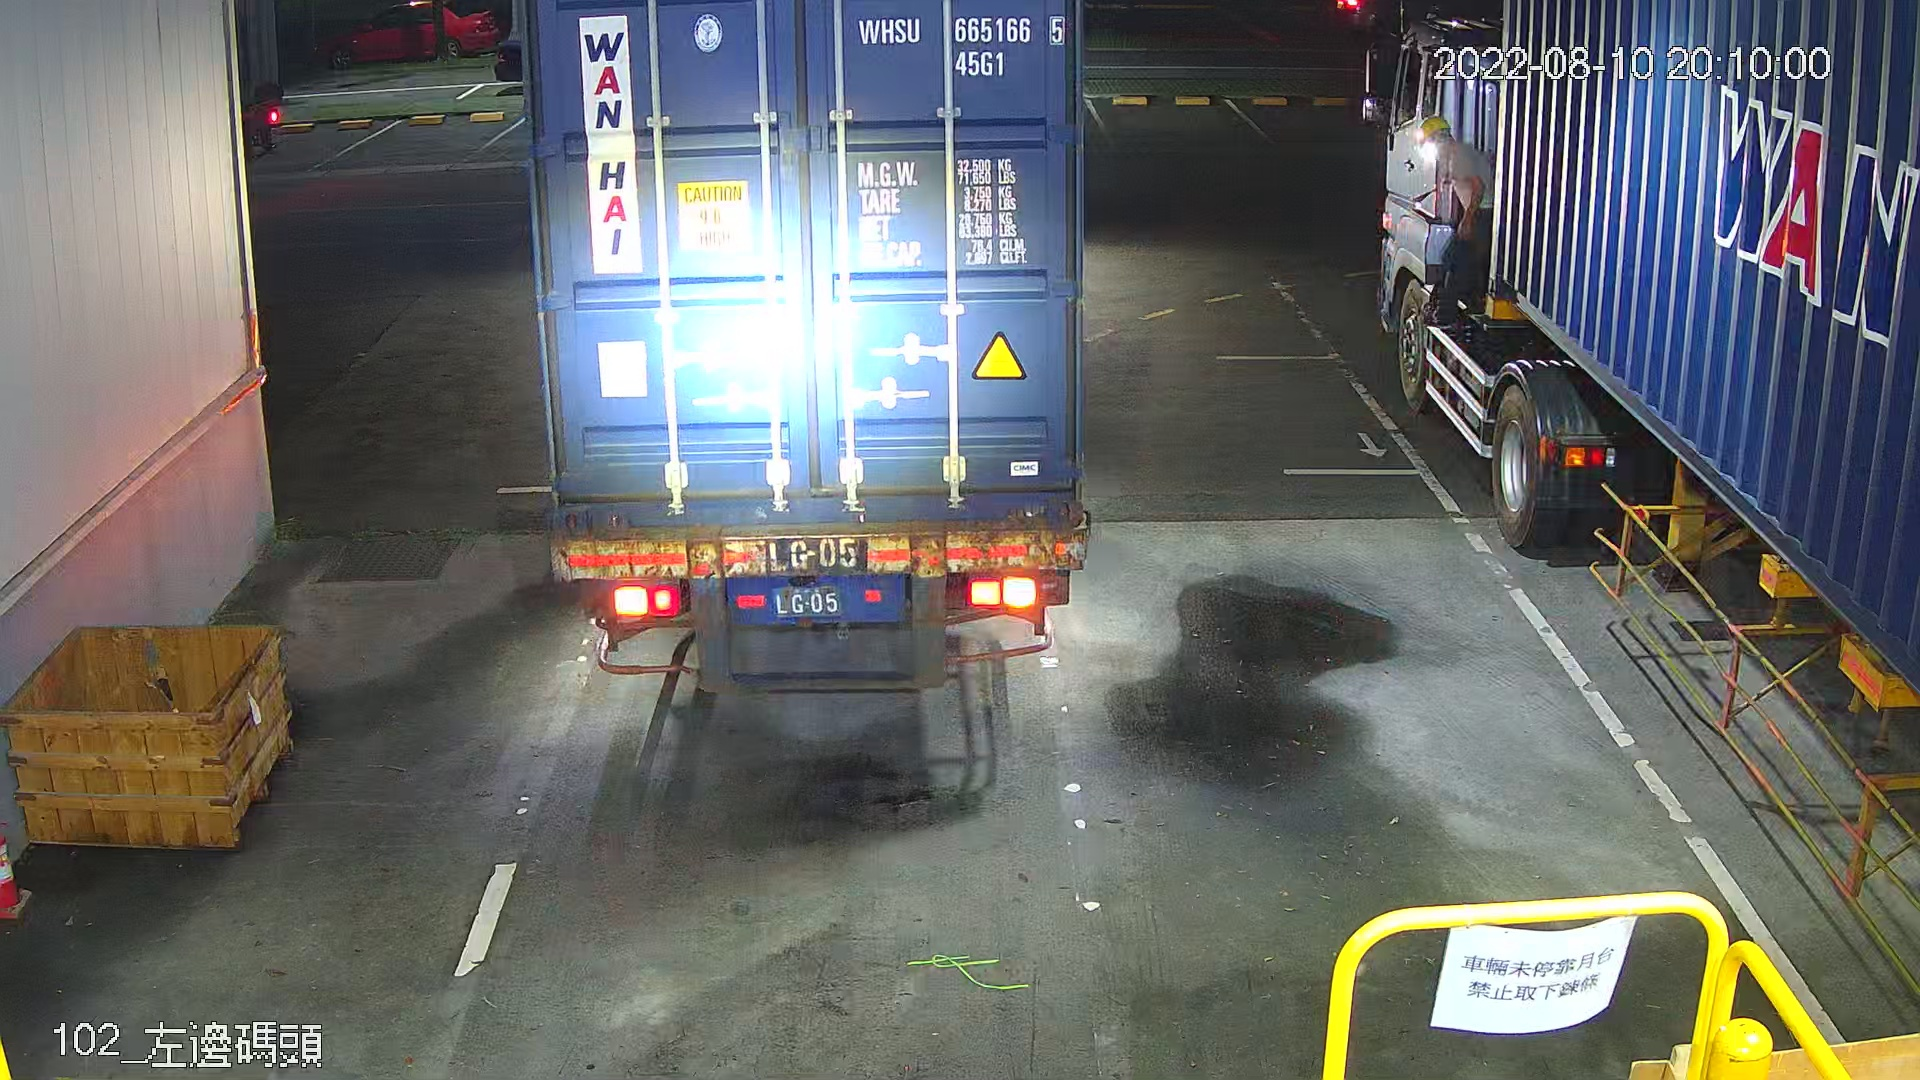container: (848, 7, 1073, 84)
